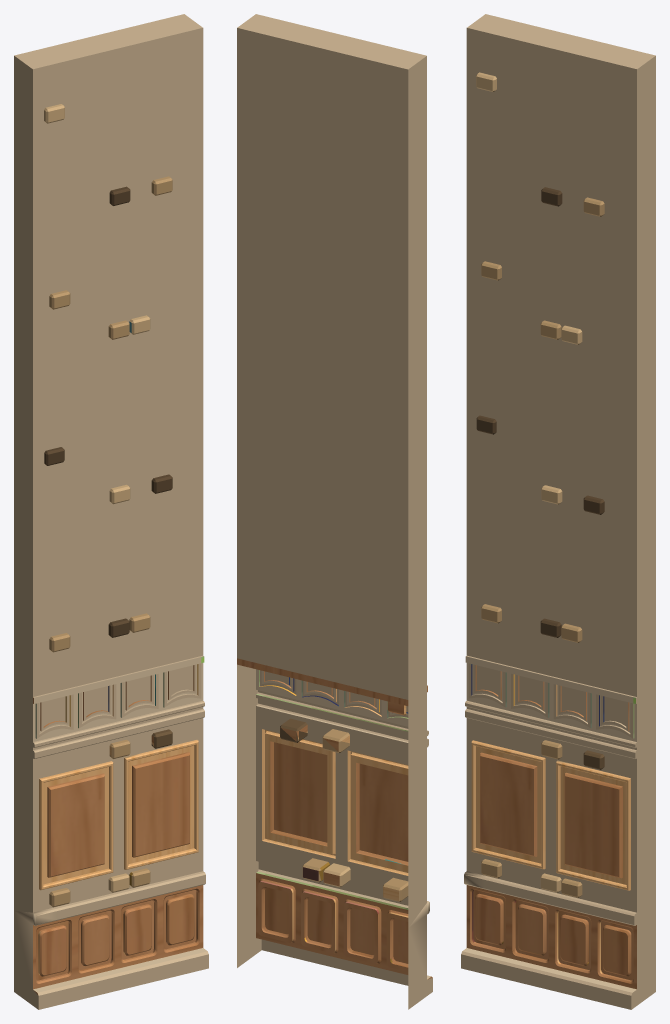
Rendered from Wall 2.fbx.
3 renders of one model, left to right at view 1: azimuth 30°, elevation 25°; view 2: azimuth 150°, elevation 25°; view 3: azimuth 330°, elevation 25°, orthographic.
Visible parts, largest first — view 1: Wall 2; view 2: Wall 2; view 3: Wall 2.
Boxes of the visible parts, bbox=[...] form: Wall 2: bbox=[14, 14, 208, 1009]; Wall 2: bbox=[237, 14, 432, 1009]; Wall 2: bbox=[461, 14, 655, 1009].
Bounding box in the file's own units: 400 × 2102 × 99.99.
